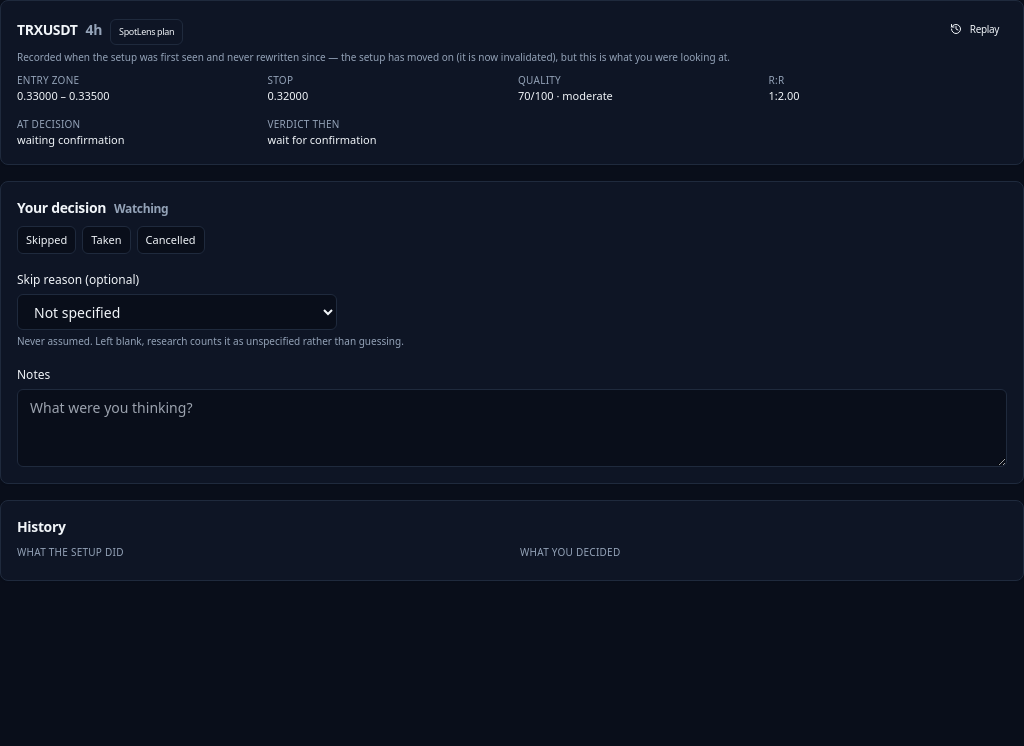
Test: JournalDetail — changing a decision on a closed setup › closes the statement once the late take is recorded, leaving no stale refusal
Click the button "Taken" at {"x": 106, "y": 240}, box [82,226,131,254]
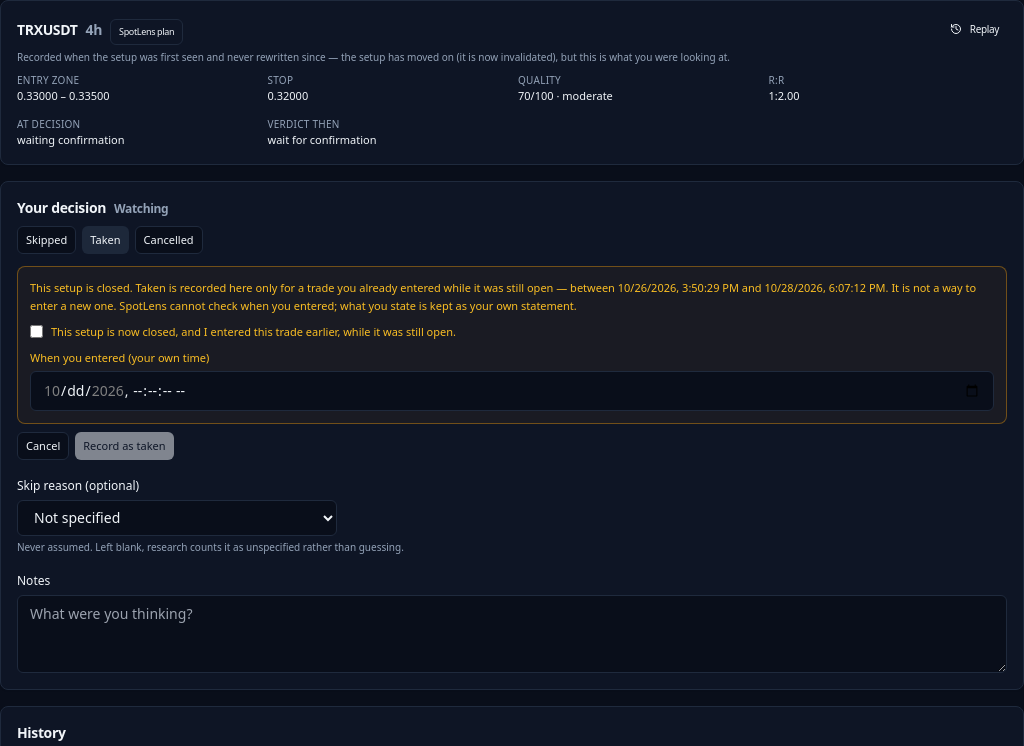
Click the checkbox at {"x": 36, "y": 332}, box [30,325,43,338]
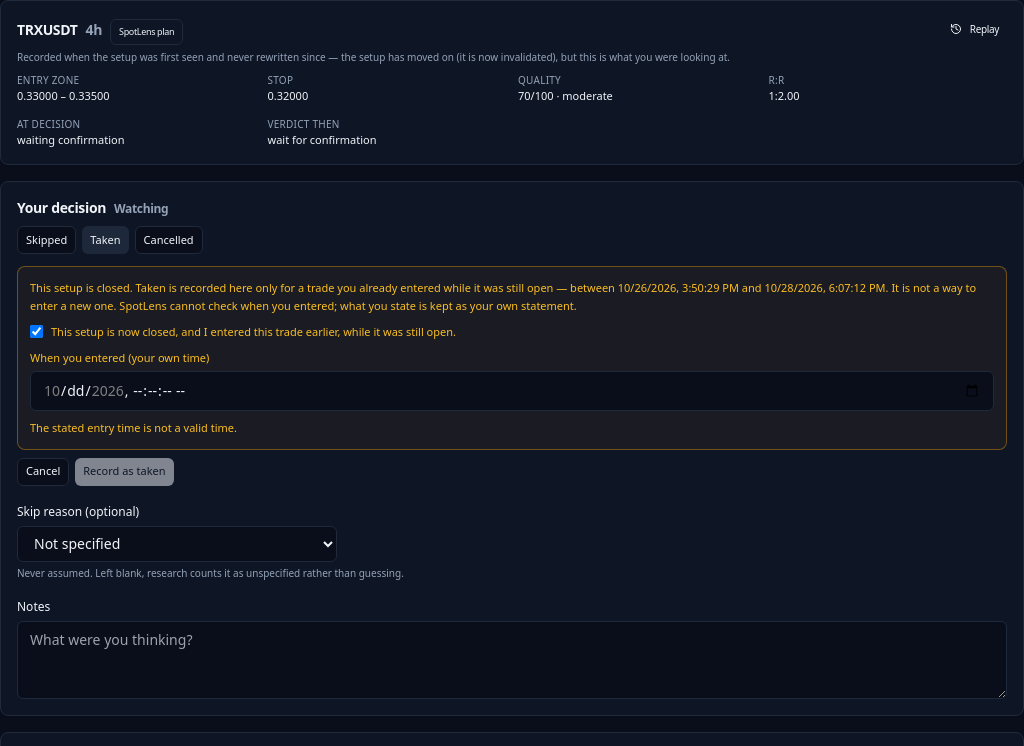
Type "2026-10-27T09:30:00" into the field labelled "When you entered (your own time)" at {"x": 512, "y": 391}, box [30,371,994,411]
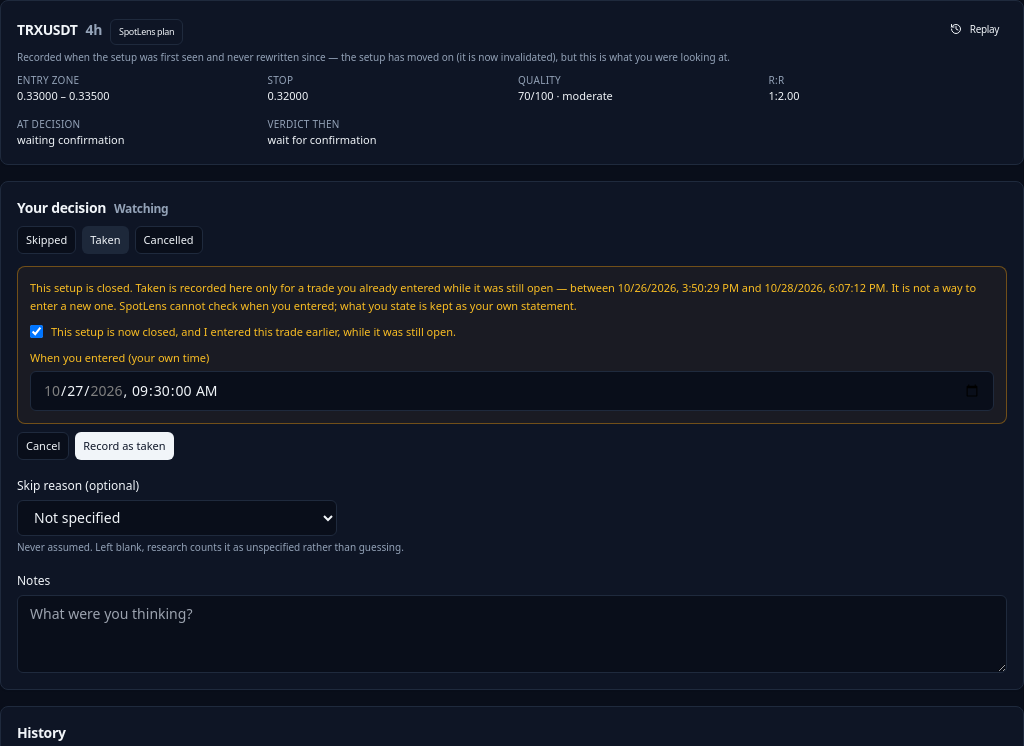
Click the button "Record as taken" at {"x": 124, "y": 446}, box [75,432,174,460]
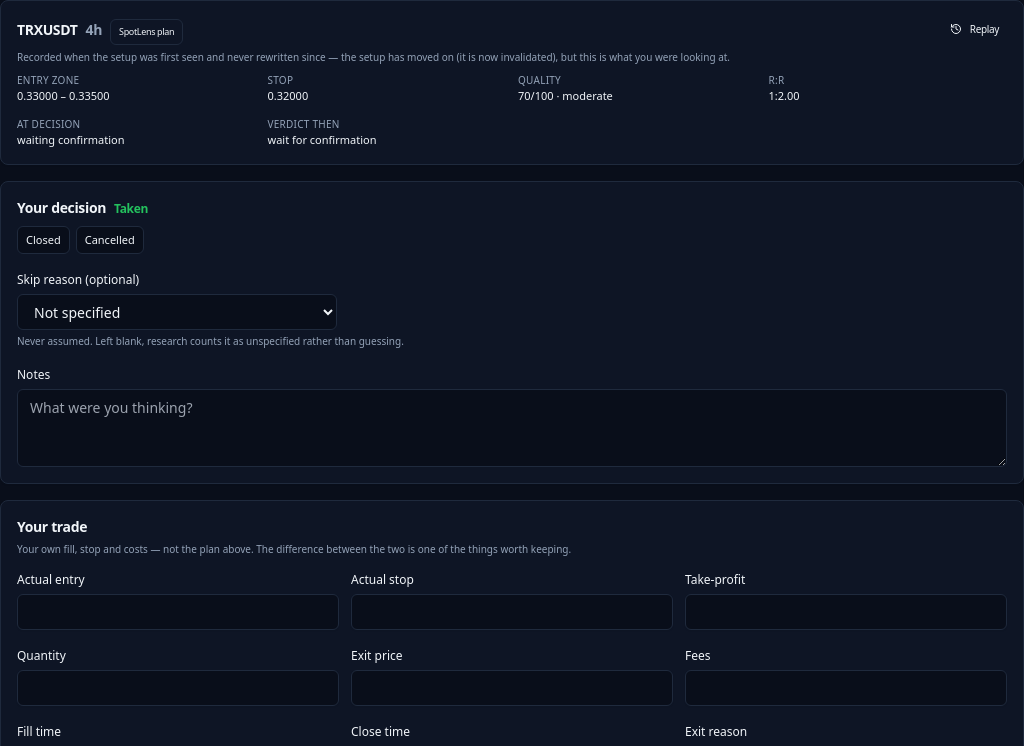
Expected: the button "Closed" is shown, [17,226,70,254]
Expected: the button "Record as taken" is gone
Expected: the checkbox is gone
